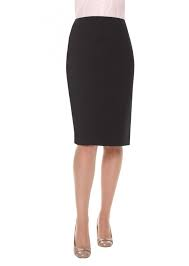F_tailored skirt: (60, 14, 138, 152)
